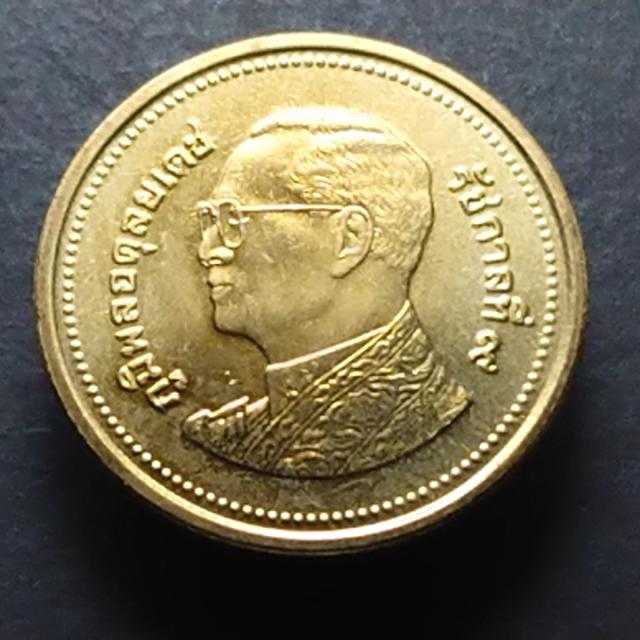2 Bath: (30, 30, 593, 565)
